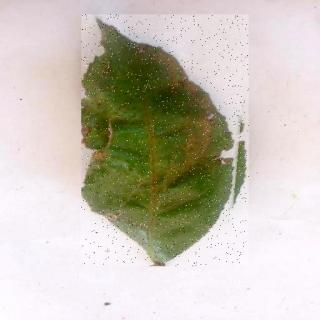Brown Blight: (82, 16, 250, 268)
